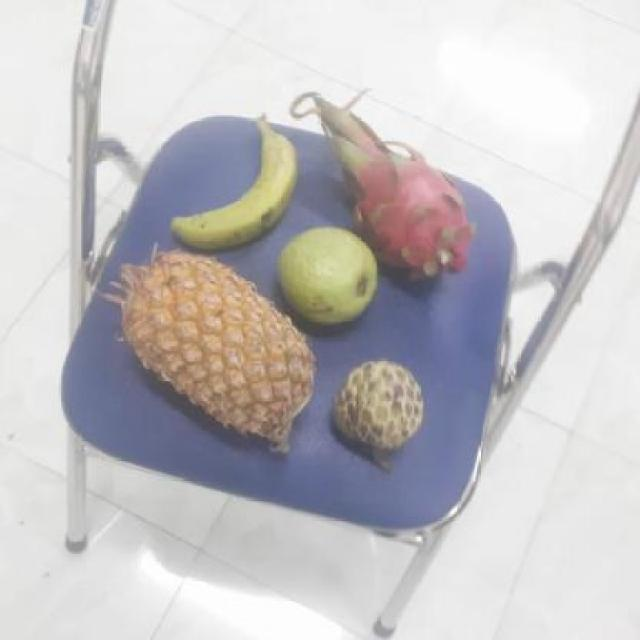banana: (167, 122, 295, 253)
dragon fruit: (326, 136, 465, 276)
guava: (273, 228, 381, 328)
pineapple: (111, 252, 315, 450)
sugar apple: (330, 359, 425, 450)
